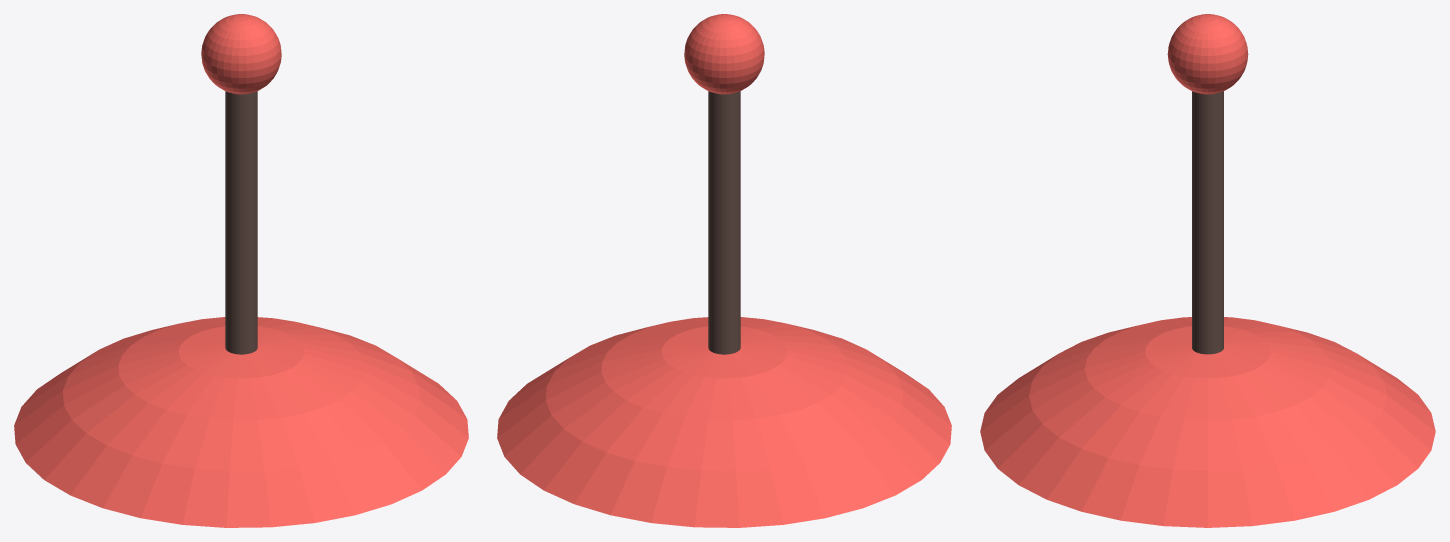
Rendered from trigger.glb.
The picture shows the model from 3 angles, left to right: view 1: azimuth 30°, elevation 25°; view 2: azimuth 150°, elevation 25°; view 3: azimuth 270°, elevation 25°; orthographic projection.
Visible parts, largest first — view 1: 球体, 柱体, 球体.001; view 2: 球体, 柱体, 球体.001; view 3: 球体, 柱体, 球体.001.
Part boxes in pixels (x1,y1,x2,y2): 球体: (14,317,468,527); 柱体: (225,91,257,354); 球体.001: (201,14,281,94); 球体: (497,317,951,527); 柱体: (708,91,740,354); 球体.001: (684,14,764,94); 球体: (980,317,1435,527); 柱体: (1192,91,1223,354); 球体.001: (1167,14,1248,94).
Size of the model in its own units: 2.83 by 2.84 by 2.83.
